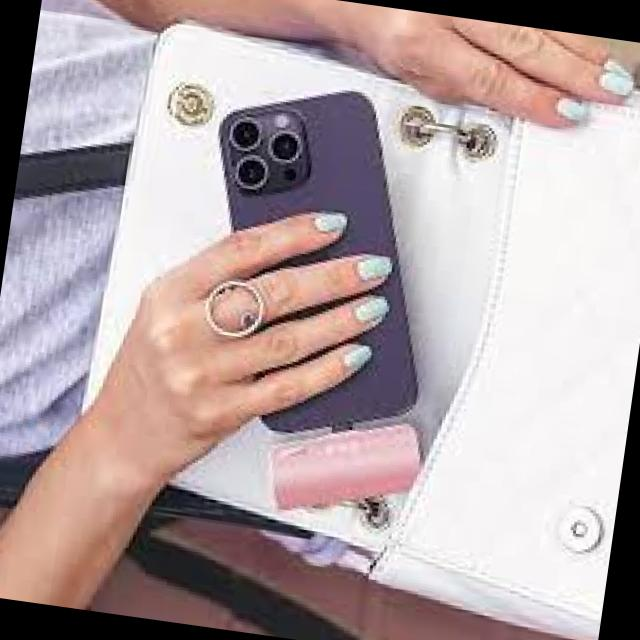power_bank: (260, 397, 430, 536)
